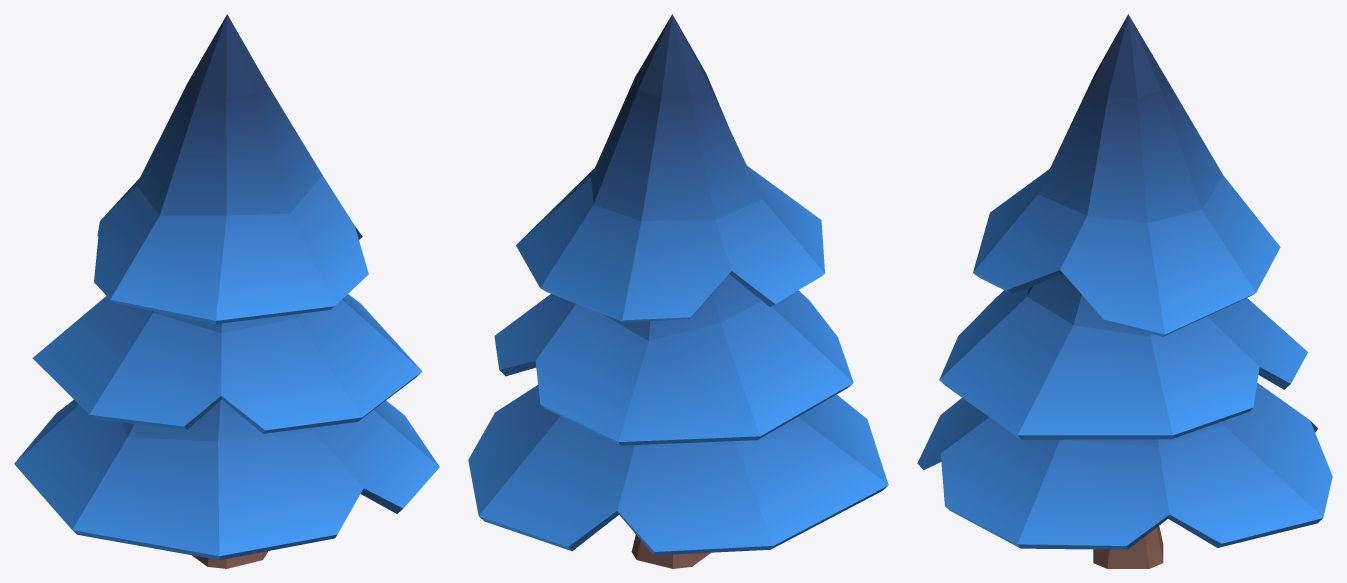
The model's file is BluePine1.fbx.
The picture shows the model from 3 angles, left to right: view 1: azimuth 30°, elevation 25°; view 2: azimuth 150°, elevation 25°; view 3: azimuth 270°, elevation 25°; orthographic projection.
Visible parts, largest first — view 1: BluePine1; view 2: BluePine1; view 3: BluePine1.
Part boxes in pixels (x1,y1,x2,y2): BluePine1: (14,14,439,568); BluePine1: (468,14,888,568); BluePine1: (917,14,1332,568).
Bounding box in the file's own units: 432 × 613 × 428.
